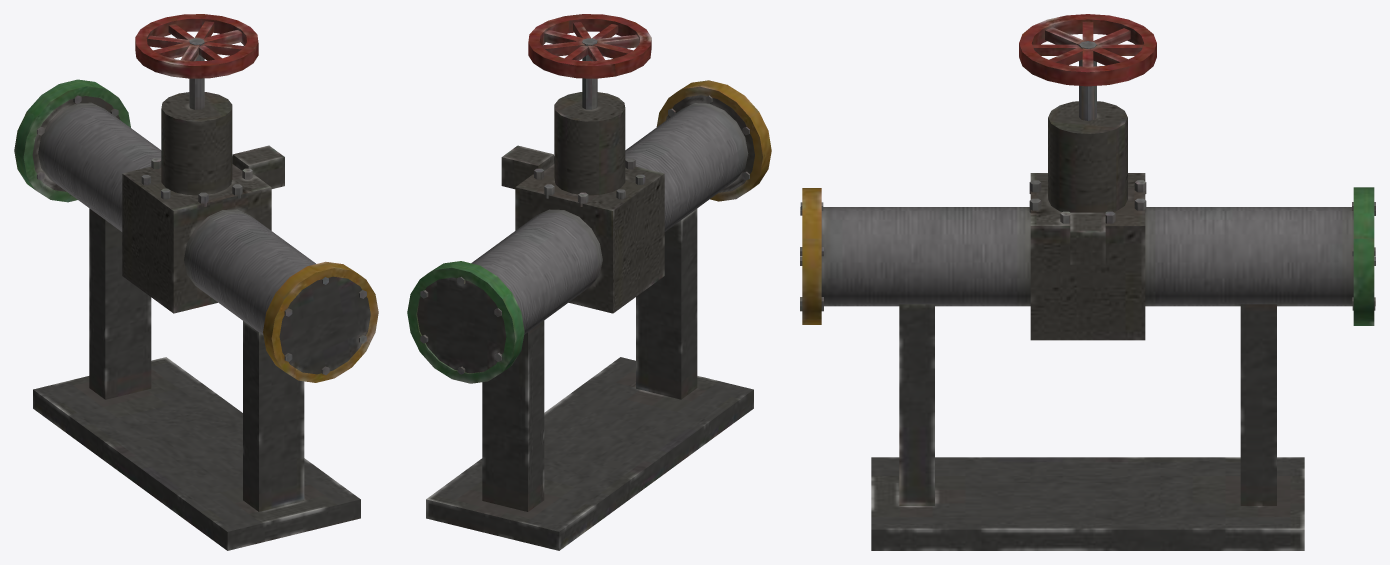
File: feValveShutoff.glb
3 views of the same model, side by side, from view 1: azimuth 30°, elevation 25°; view 2: azimuth 150°, elevation 25°; view 3: azimuth 270°, elevation 25° (orthographic). The views are drawn at different scales.
Parts seen in each view (by area): view 1: feValveShutoff_Base; view 2: feValveShutoff_Base; view 3: feValveShutoff_Base.
Boxes of the visible parts, x1,y1,x2,y2 form: feValveShutoff_Base: (14, 14, 378, 550); feValveShutoff_Base: (407, 14, 771, 550); feValveShutoff_Base: (800, 14, 1375, 550).
Bounding box in the file's own units: 0.3318 × 0.9143 × 1.01.
Materials: 1 (1 with a texture image).
